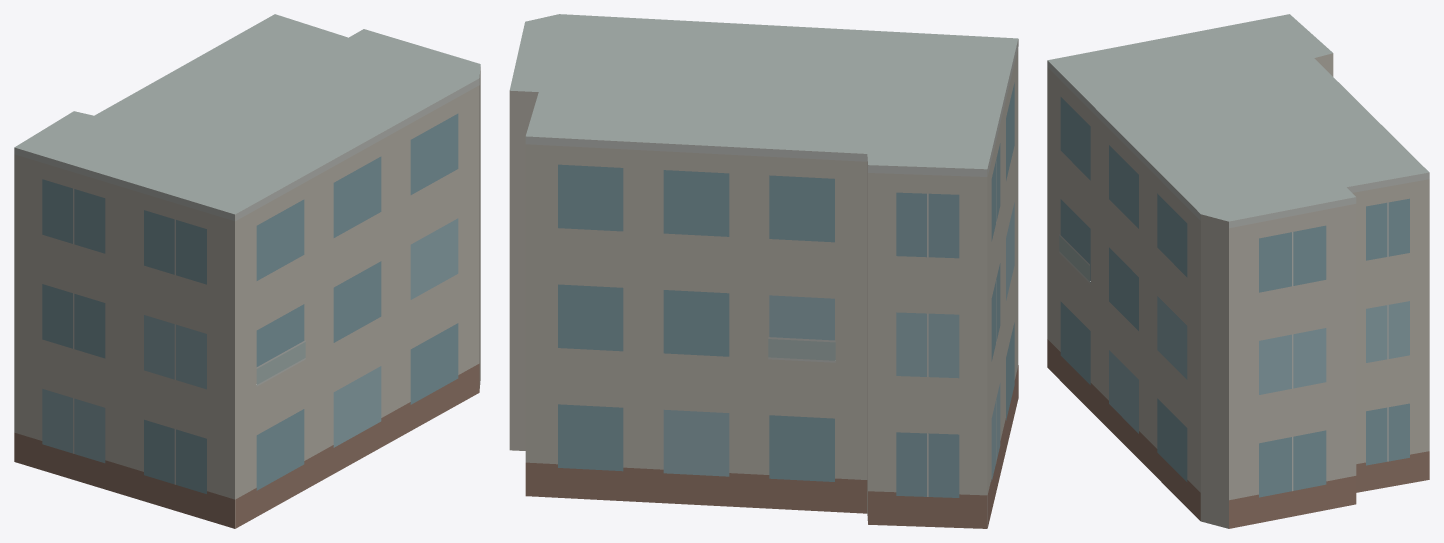
File: survey-upis-32961024.glb
The picture shows the model from 3 angles, left to right: view 1: azimuth 30°, elevation 25°; view 2: azimuth 150°, elevation 25°; view 3: azimuth 270°, elevation 25°; orthographic projection. The views are drawn at different scales.
Parts seen in each view (by area): view 1: survey-upis-32961024.tmp; view 2: survey-upis-32961024.tmp; view 3: survey-upis-32961024.tmp.
Boxes of the visible parts, x1=… form: survey-upis-32961024.tmp: x1=14, y1=14, x2=480, y2=528; survey-upis-32961024.tmp: x1=509, y1=14, x2=1018, y2=528; survey-upis-32961024.tmp: x1=1047, y1=14, x2=1429, y2=528.
Bounding box in the file's own units: 16.24 × 11.2 × 12.64.
